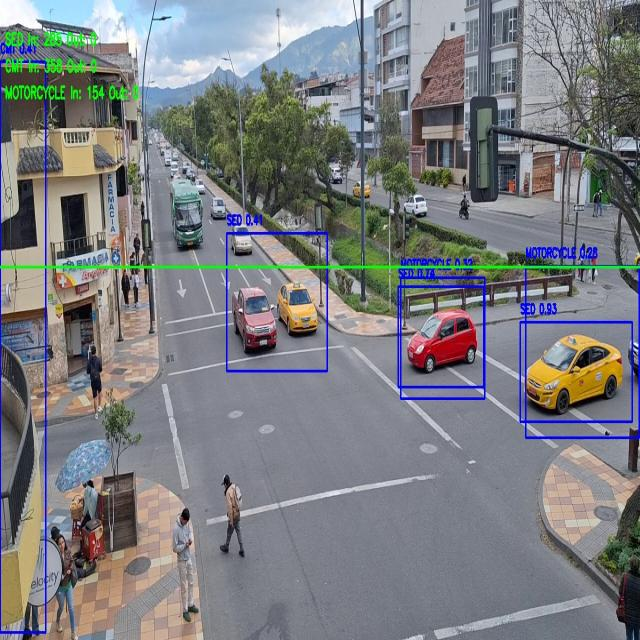BUS: (176, 194, 205, 248)
CMT: (235, 292, 277, 352)
MOTORCYCLE: (459, 205, 469, 221)
SED: (528, 338, 622, 407), (408, 314, 475, 370), (278, 286, 316, 334), (407, 196, 428, 217), (234, 234, 252, 255), (212, 200, 225, 220)
